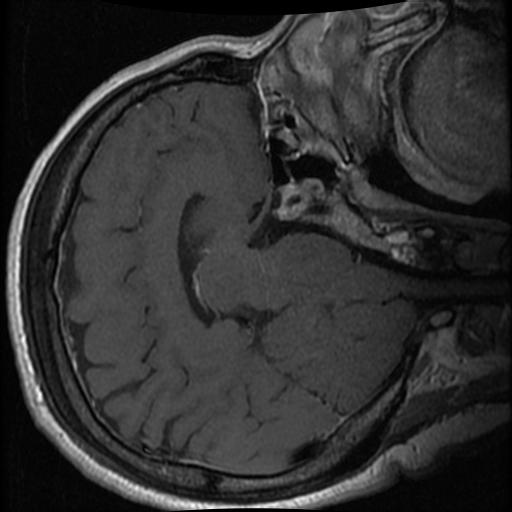pituitary tumour: (278, 178, 324, 216)
